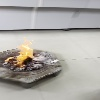fire: (5, 37, 35, 68)
